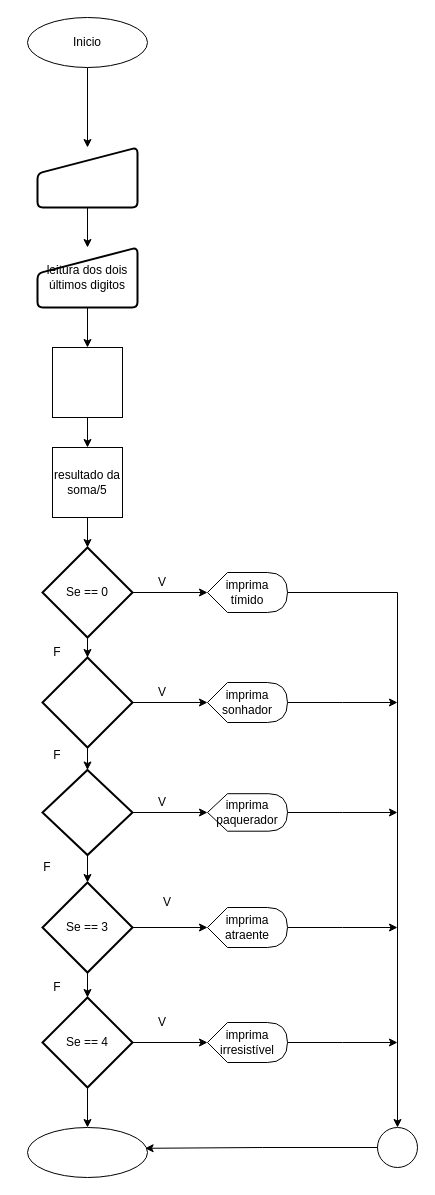
This 435x1195 diagram has some shape labels left out. Here are the shapes that lost their labels. From the top down, the box of each, then its label:
(36, 146, 138, 208): Leitura dos dois primeiros digitos
(52, 346, 122, 418): os dois primeiros dígitos +os dois últimos dígitos
(41, 656, 133, 748): Se == 1
(41, 768, 133, 856): Se == 2
(26, 1126, 148, 1178): Fim
